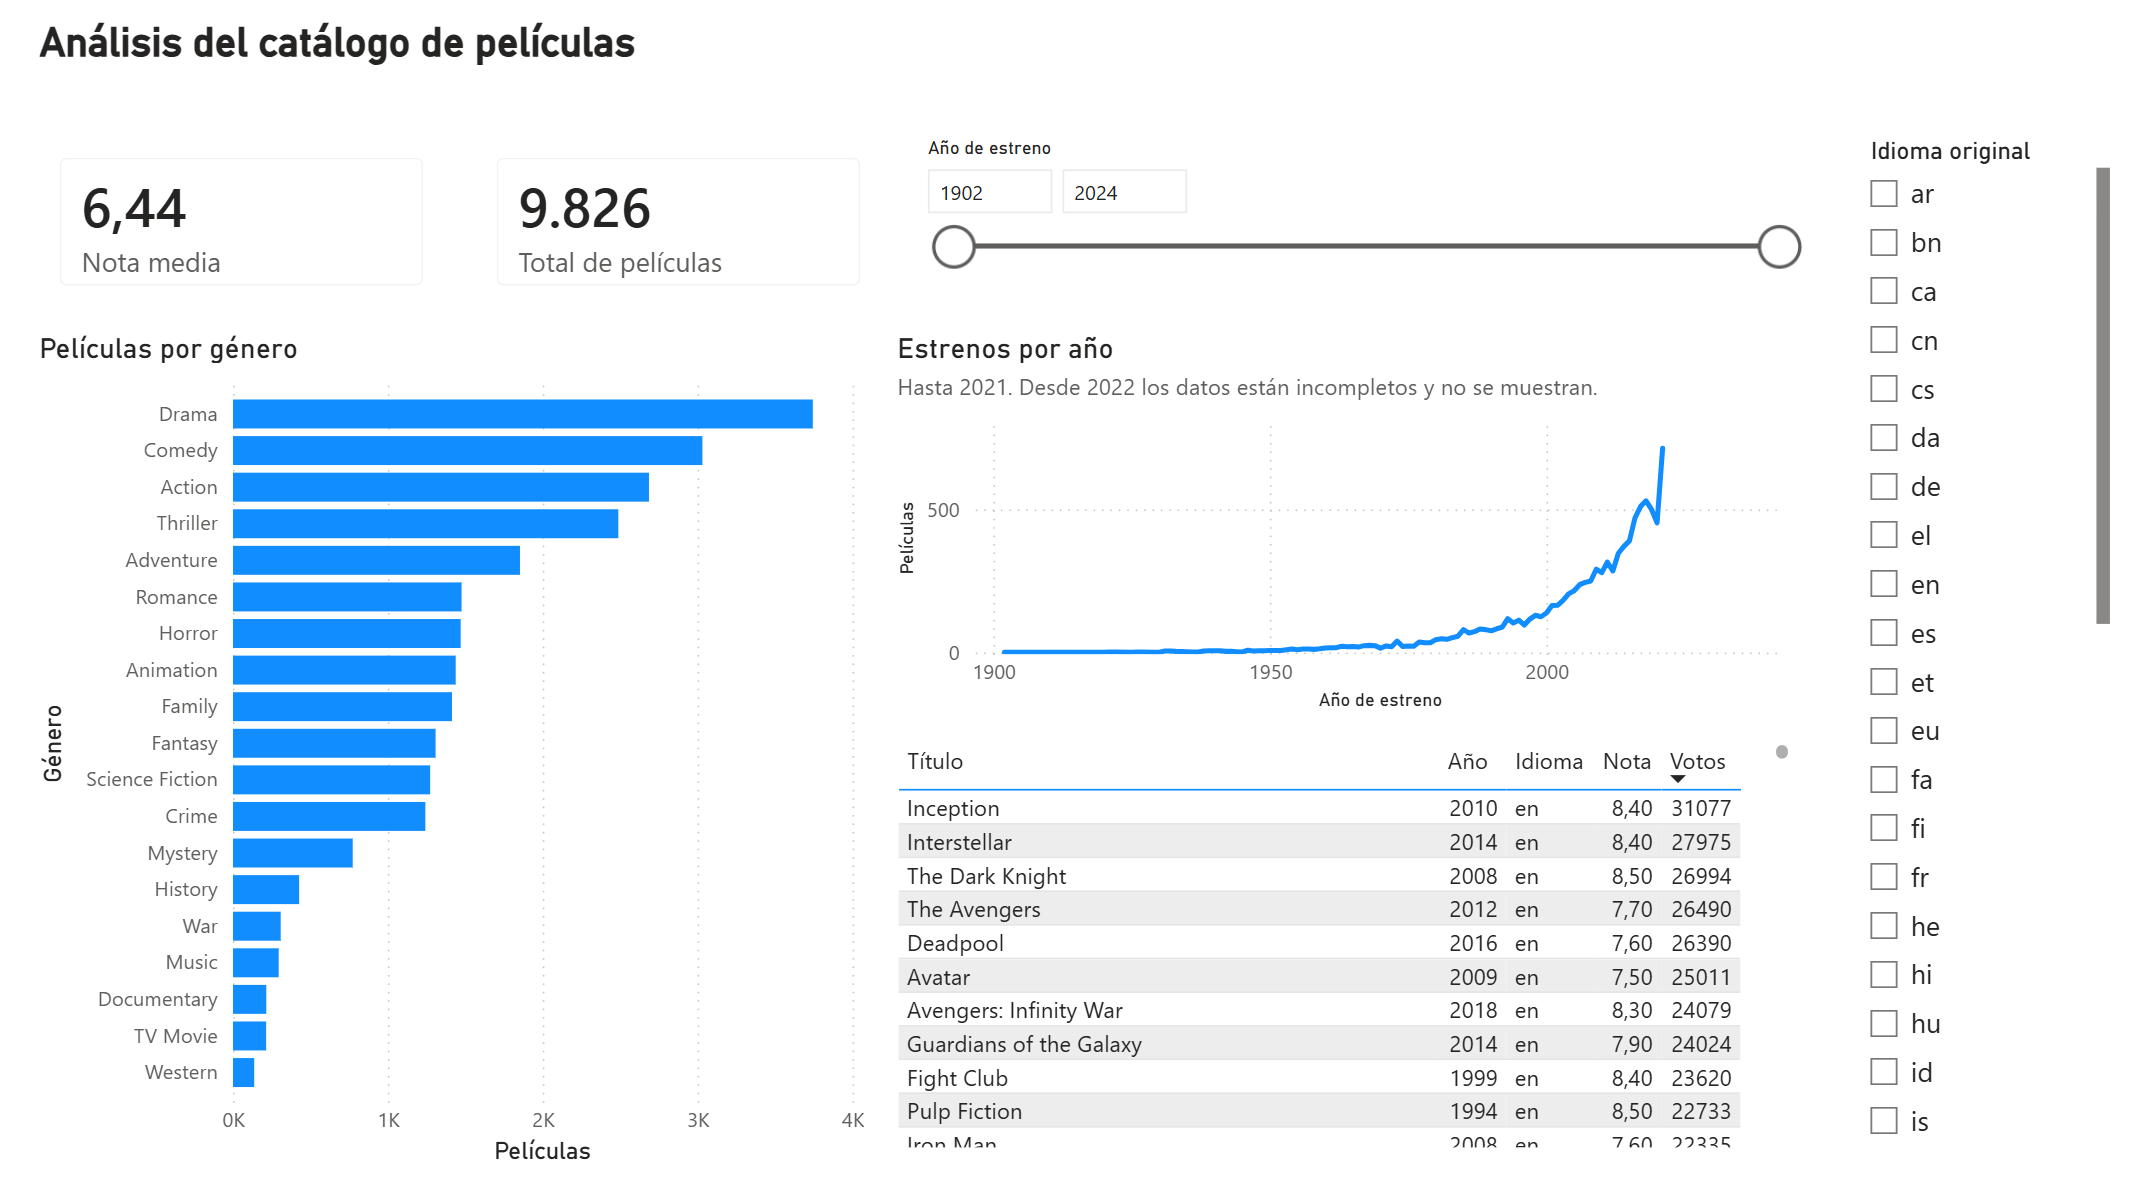

What the dashboard file says about the page in this screenshot:
{"tool":"powerbi","page":{"name":"Página 1","canvas":[1280,720],"ordinal":0},"visuals":[{"type":"cardVisual","fields":{"Data":["Avg(csv_query_4_es.vote_average)"]},"box":[20,80,250,110],"z":0},{"type":"cardVisual","fields":{"Data":["csv_query_4_es.Total de películas"]},"box":[280,80,250,110],"z":1000},{"type":"lineChart","title":"Estrenos por año","fields":{"Category":["csv_query_4_es.release_year"],"Y":["csv_query_4_es.Total Peliculas"]},"box":[530,200,540,230],"z":2000},{"type":"clusteredBarChart","title":"Películas por género","fields":{"Category":["csv_query_3_es.genero"],"Y":["csv_query_4_es.Peliculas por genero"]},"box":[20,200,500,500],"z":3000},{"type":"tableEx","fields":{"Values":["csv_query_4_es.title","csv_query_4_es.release_year","csv_query_4_es.original_language","Avg(csv_query_4_es.vote_average)","Sum(csv_query_4_es.vote_count)"]},"box":[530,440,540,250],"z":4000},{"type":"slicer","fields":{"Values":["csv_query_4_es.release_year"]},"box":[540,80,540,110],"z":6000},{"type":"slicer","fields":{"Values":["csv_query_4_es.original_language"]},"box":[1100,80,160,610],"z":7000},{"type":"textbox","box":[20,10,1240,60],"z":8000}]}

Visuals, with their boxes in screenshot pixels (x1, y1, x2, y2), scaled from the page's 1280x720 canvas onto the 2150x1204 screenshot:
cardVisual - Avg(csv_query_4_es.vote_average): {"x1": 34, "y1": 134, "x2": 454, "y2": 318}
cardVisual - csv_query_4_es.Total de películas: {"x1": 470, "y1": 134, "x2": 890, "y2": 318}
"Estrenos por año" lineChart: {"x1": 890, "y1": 334, "x2": 1797, "y2": 719}
"Películas por género" clusteredBarChart: {"x1": 34, "y1": 334, "x2": 873, "y2": 1171}
tableEx - csv_query_4_es.title x csv_query_4_es.release_year: {"x1": 890, "y1": 736, "x2": 1797, "y2": 1154}
slicer - csv_query_4_es.release_year: {"x1": 907, "y1": 134, "x2": 1814, "y2": 318}
slicer - csv_query_4_es.original_language: {"x1": 1848, "y1": 134, "x2": 2116, "y2": 1154}
textbox: {"x1": 34, "y1": 17, "x2": 2116, "y2": 117}
